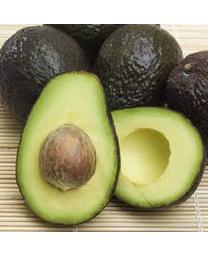avocado: (14, 69, 122, 226), (87, 105, 206, 211)
